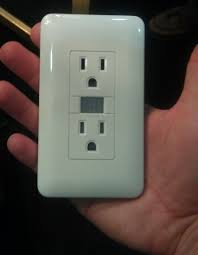outlet: (76, 116, 107, 155), (78, 54, 109, 90)
